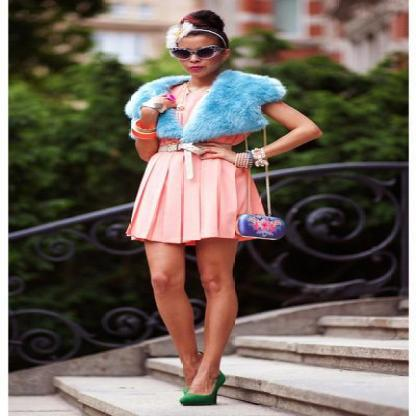bag: (237, 212, 292, 239)
dress: (127, 82, 269, 245)
shoe: (207, 360, 236, 390)
